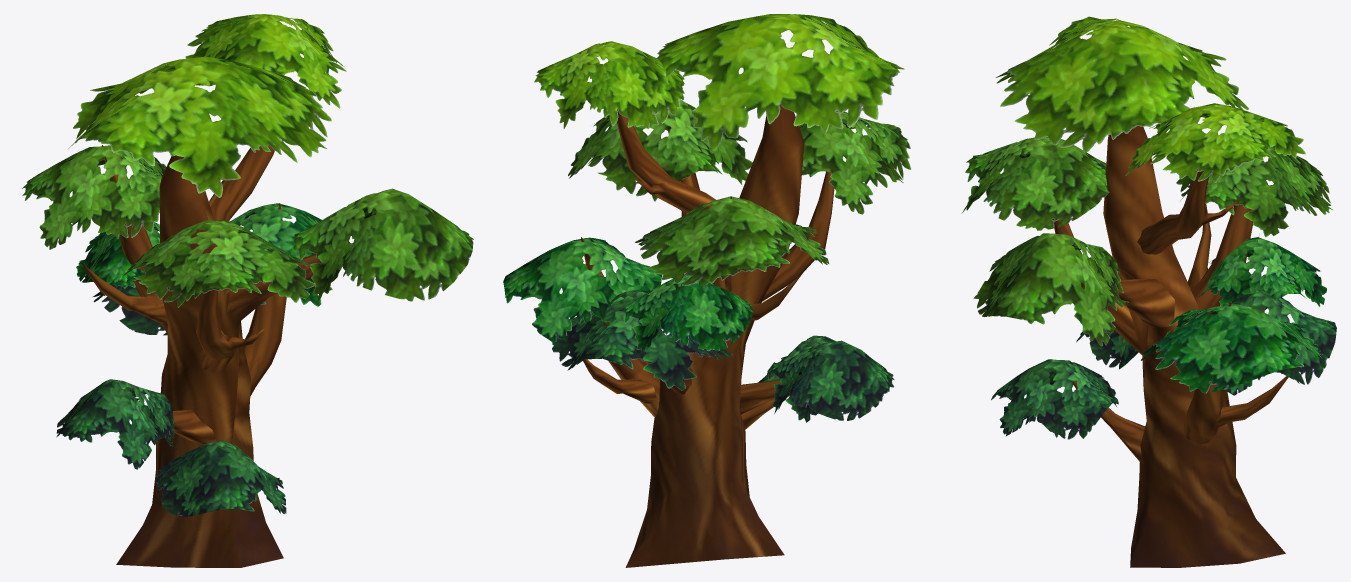
File: tree_4.FBX
3 renders of one model, left to right at view 1: azimuth 30°, elevation 25°; view 2: azimuth 150°, elevation 25°; view 3: azimuth 270°, elevation 25°, orthographic. The views are drawn at different scales.
Parts seen in each view (by area): view 1: tree_4; view 2: tree_4; view 3: tree_4.
Part boxes in pixels (box(x1,y1,x2,y2)): tree_4: box(22, 14, 473, 567); tree_4: box(503, 14, 911, 567); tree_4: box(961, 16, 1336, 567).
Size of the model in its own units: 261 by 349 by 248.
